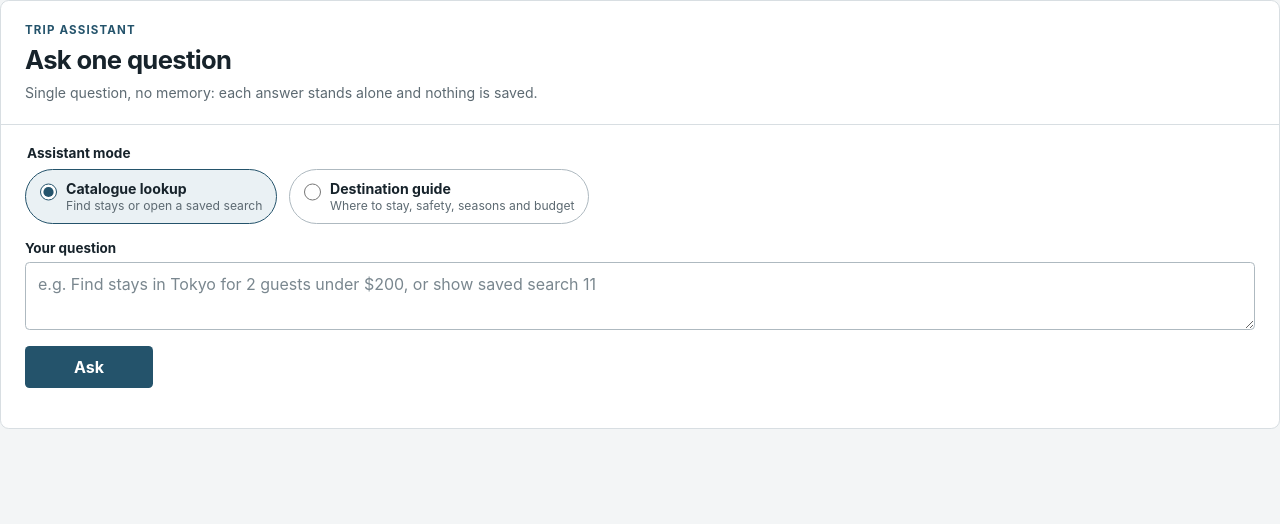
Test case: AssistantPanel › names the disabled guide mode
This screenshot has width=1280, height=524.
Click the radio button labelled "Destination guide Where to stay, safety, seasons and budget" at x=312, y=192, box [304,183,321,201]
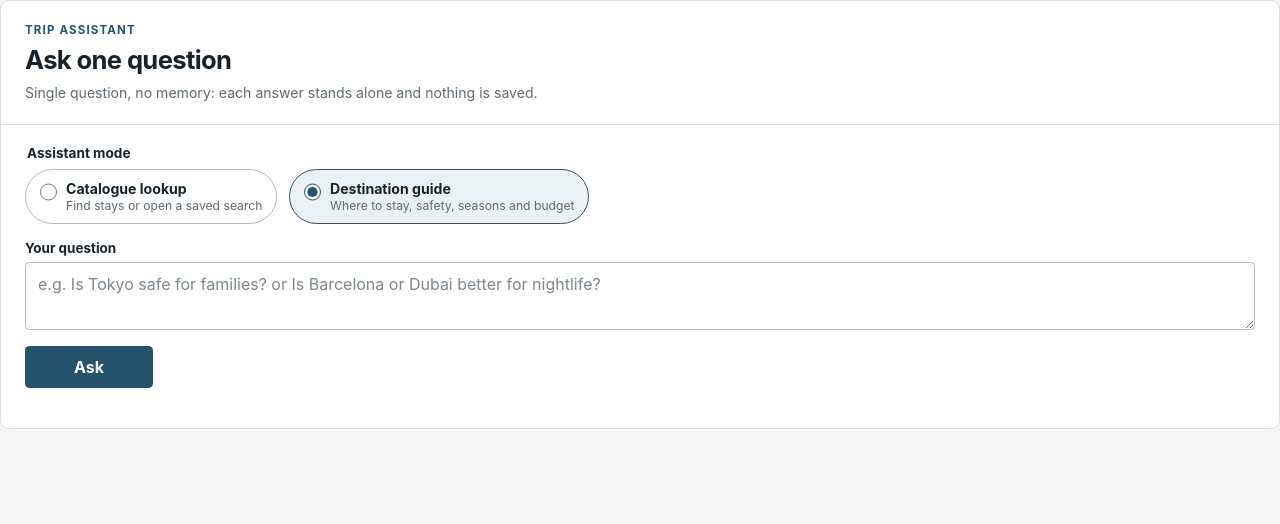
Replace the text in the text box with id "assistant-question" with "Is Tokyo safe?" at x=640, y=296, box [25,262,1255,330]
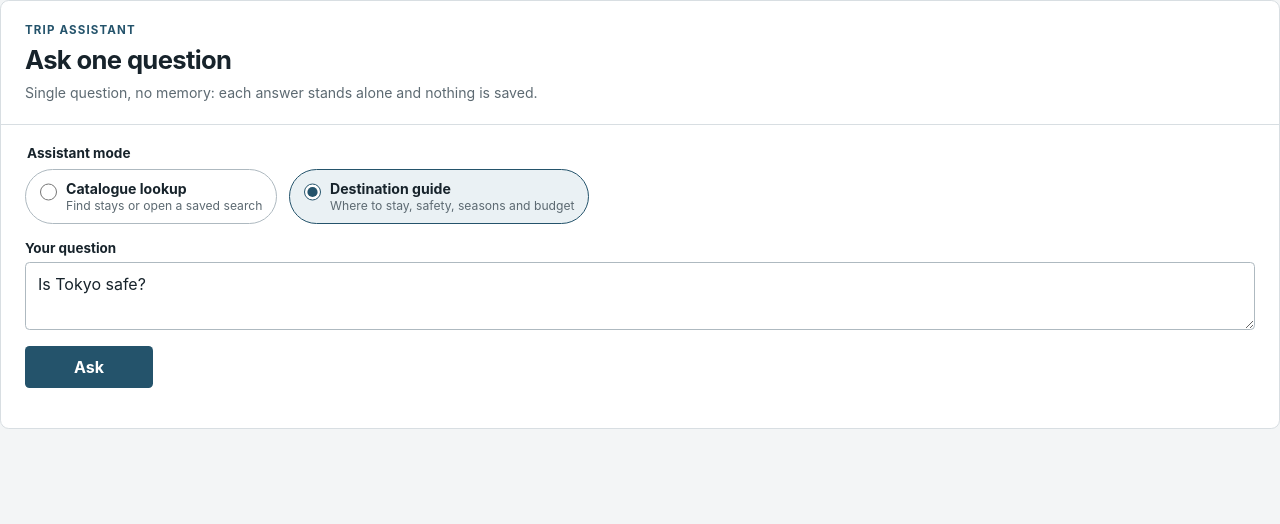
Click the button with class "assistant-submit" at x=89, y=367, box [25,346,153,388]
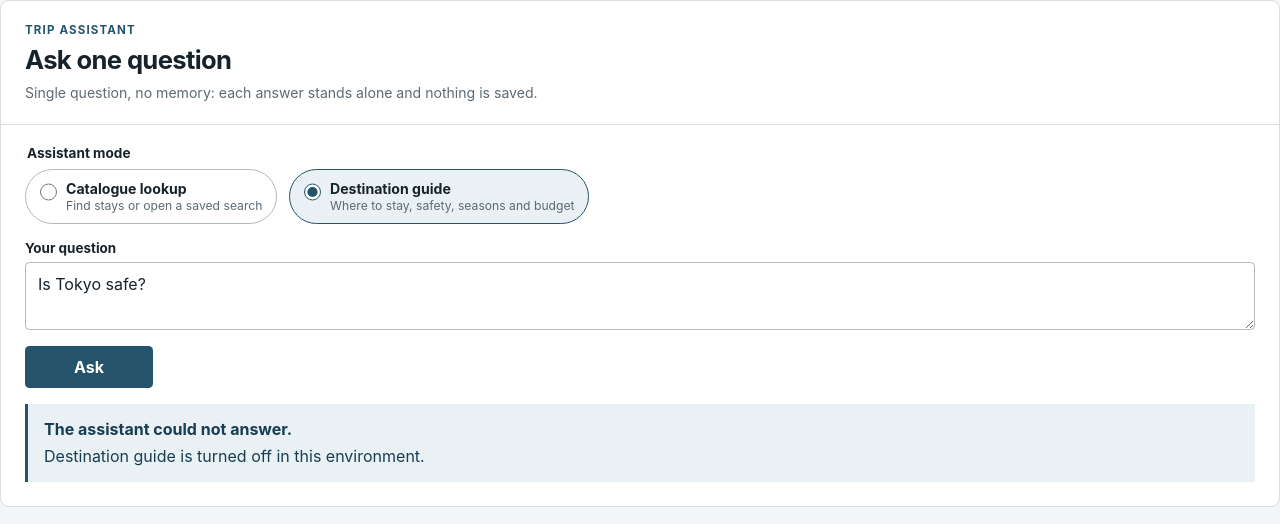
Check: the text "Destination guide is turned off in this environment." is shown, box [44,446,425,466]
